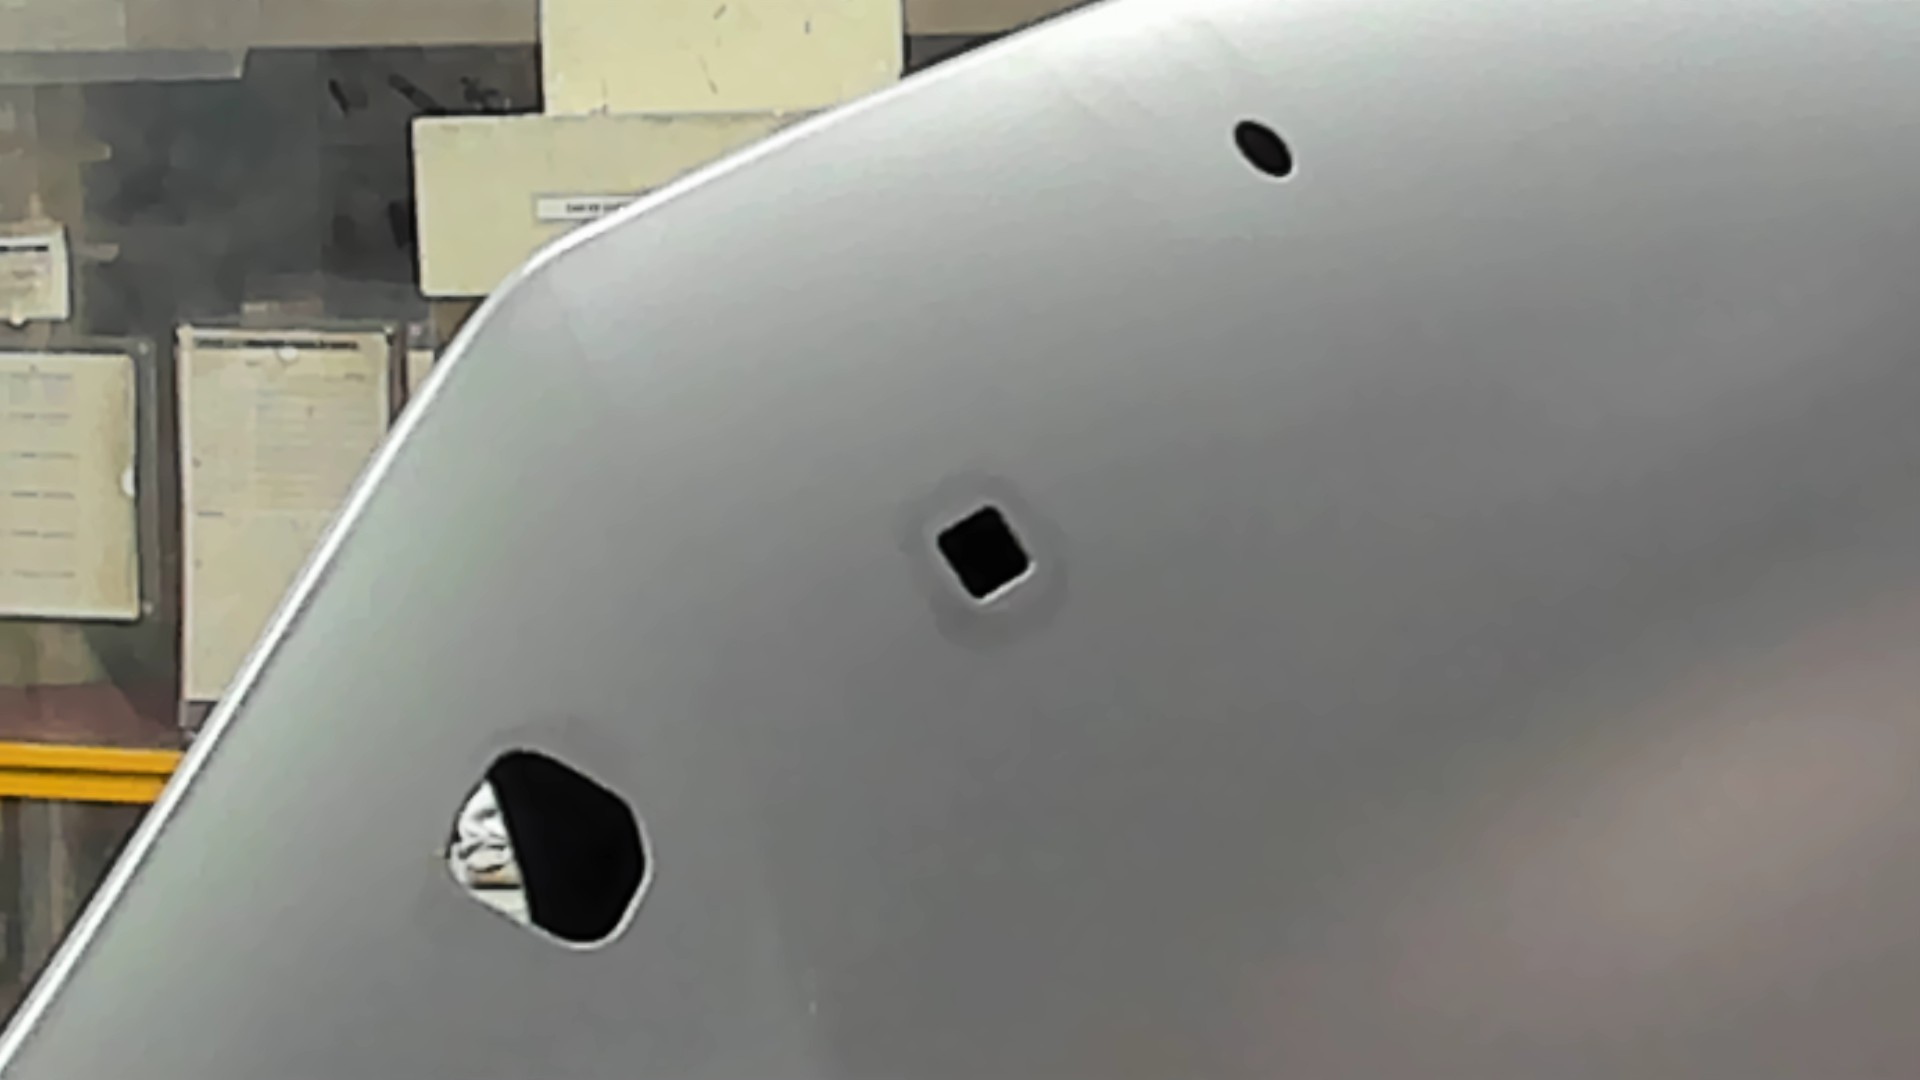chico: (1226, 109, 1300, 187)
grande: (436, 742, 659, 953)
mediano: (930, 500, 1036, 605)
